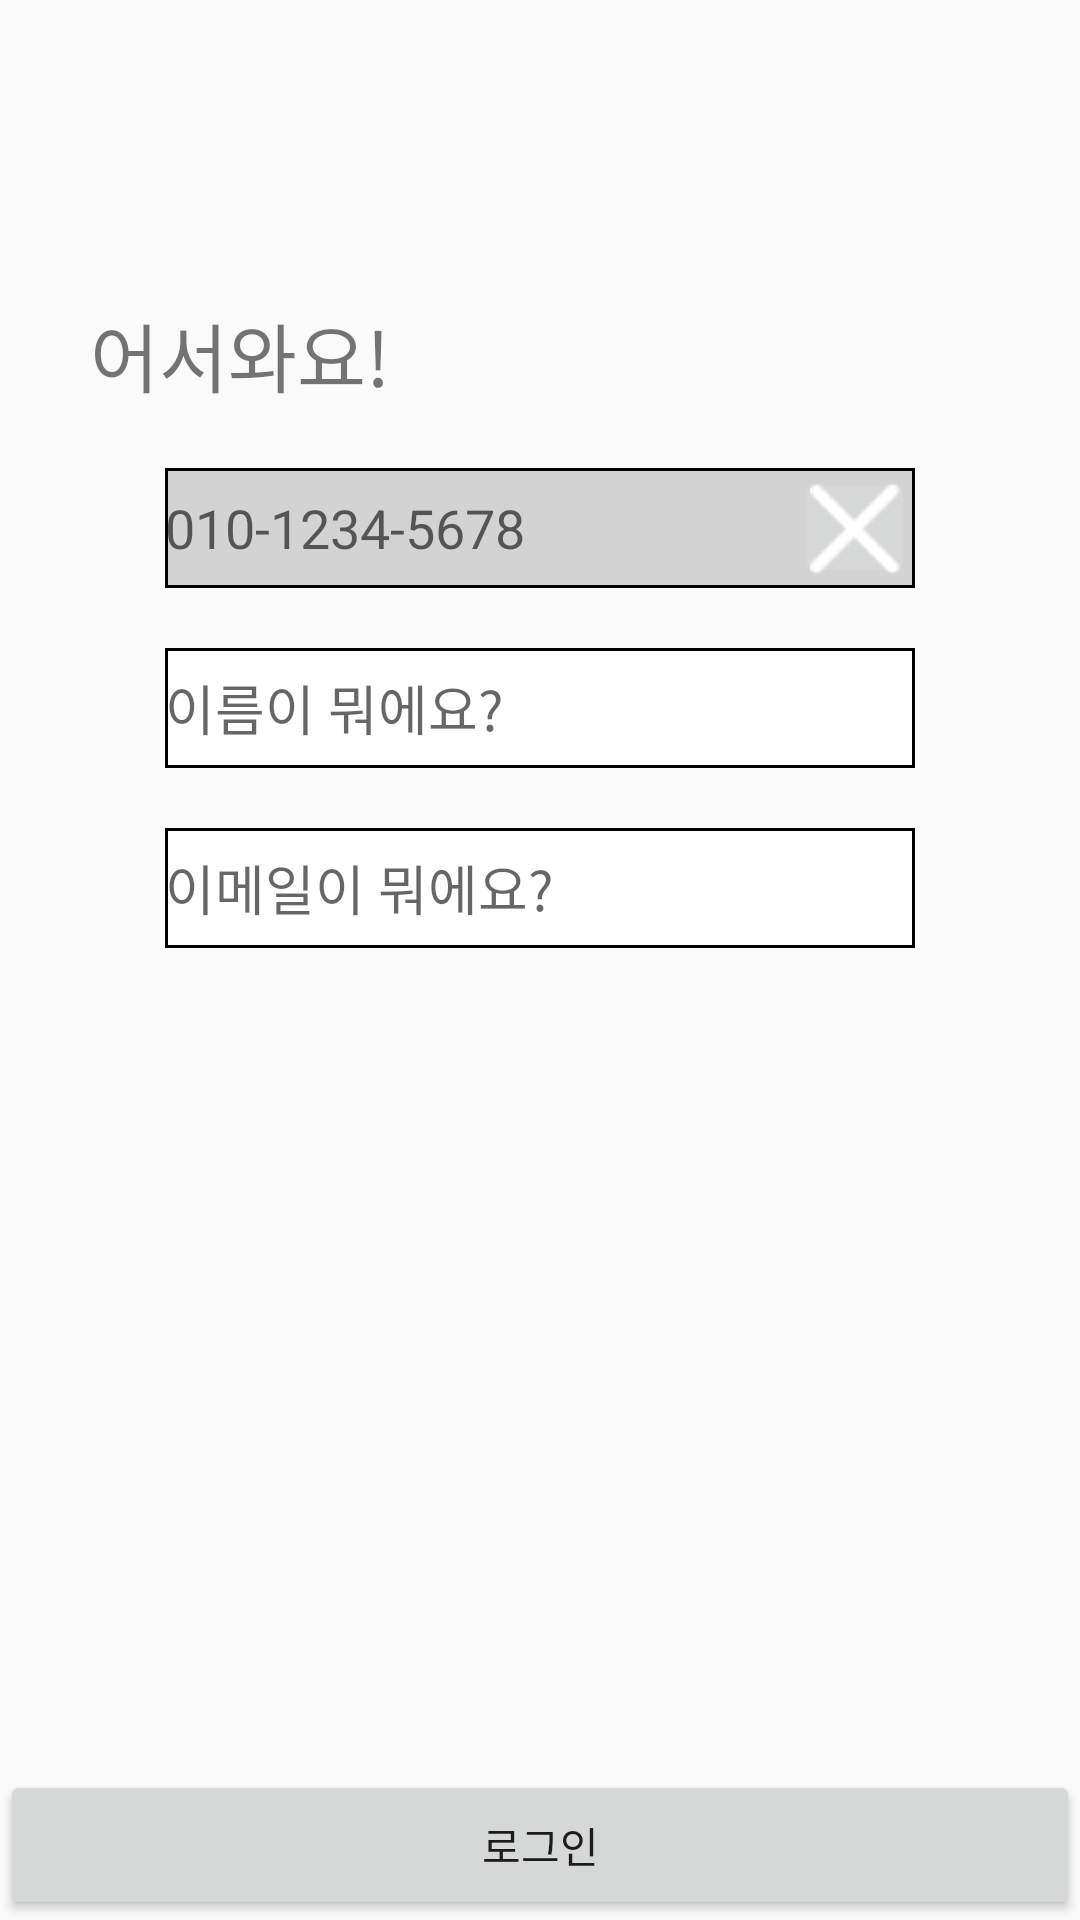

Icon click points for this 1080*1920 phone screenshot, format [x,y]:
xbutton: [855,528]
